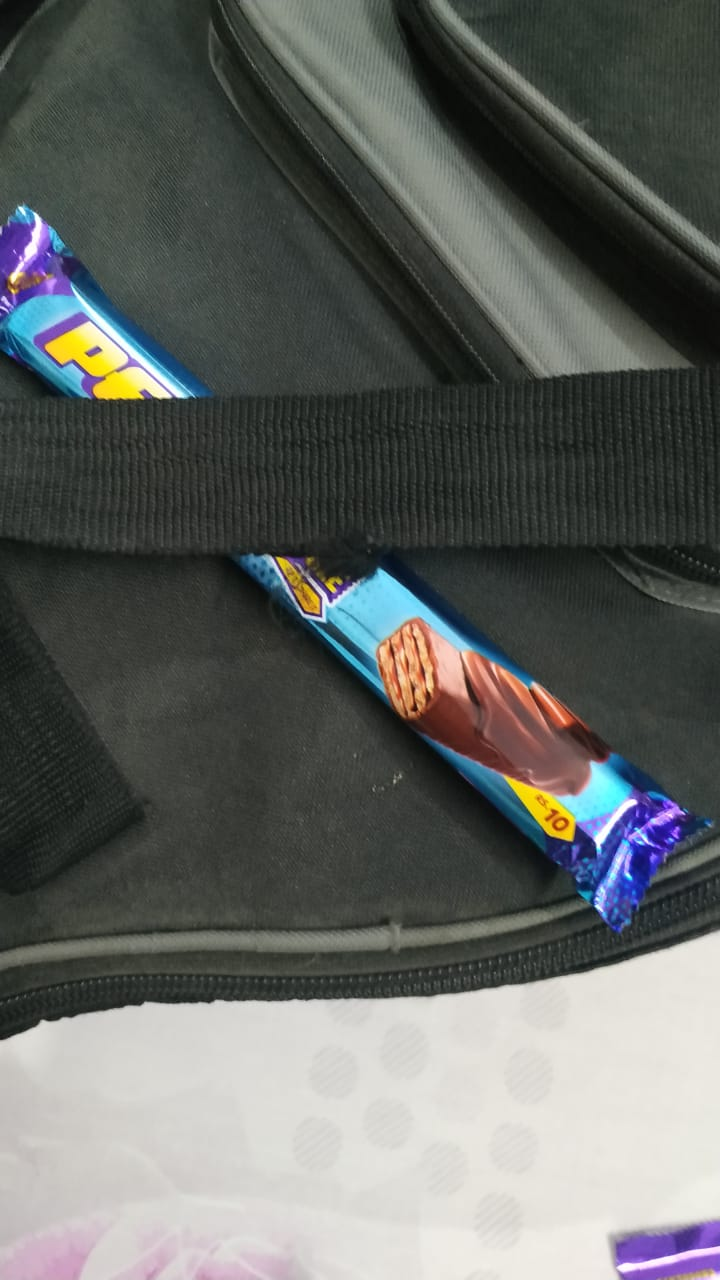perk: (1, 195, 713, 976)
